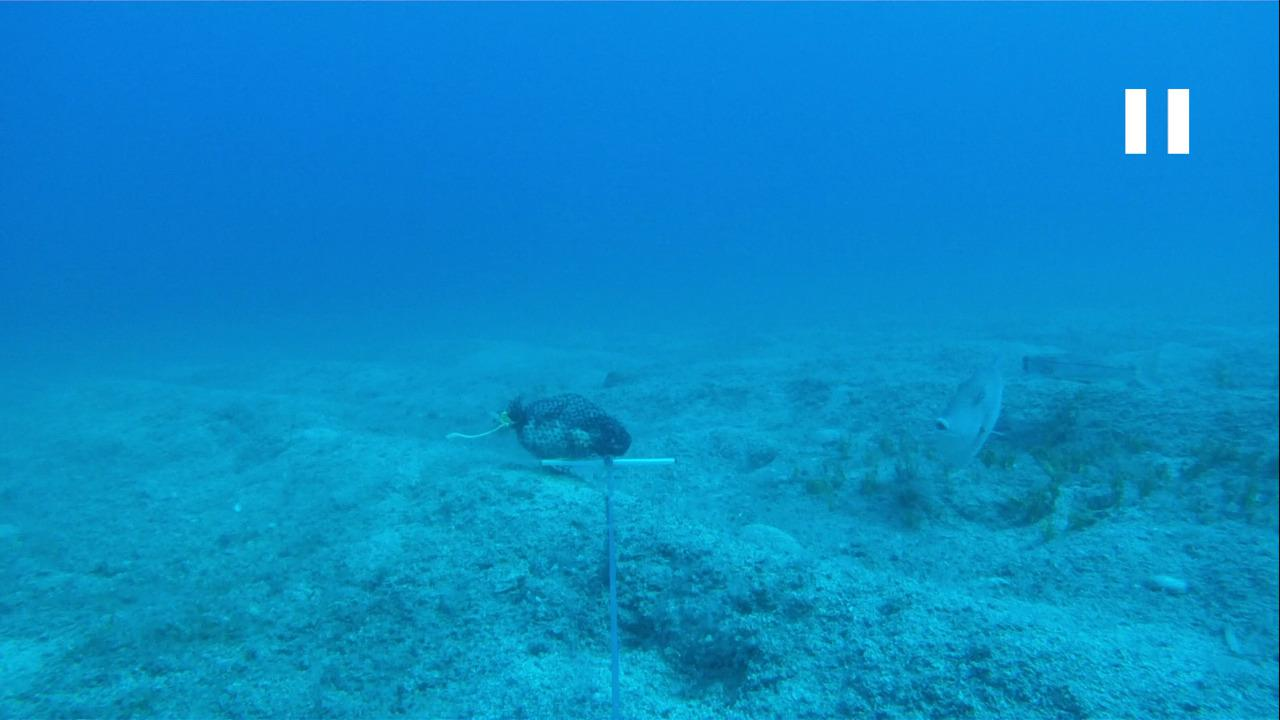balistes: (900, 346, 1011, 491)
dactylopterus: (1014, 342, 1181, 398)
